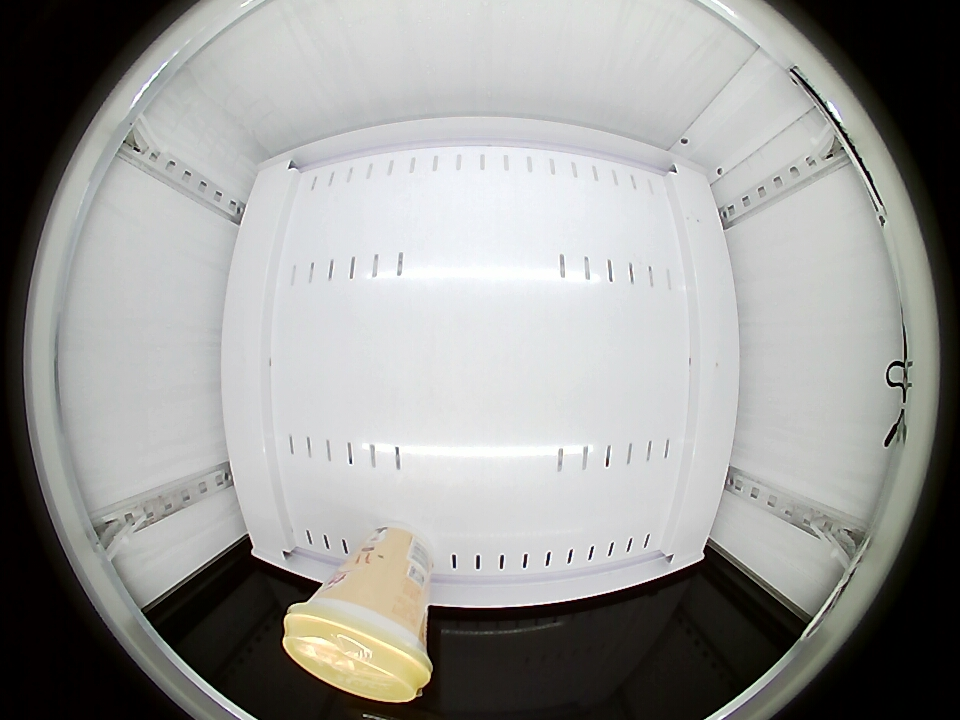youlemei: (283, 590, 432, 703)
